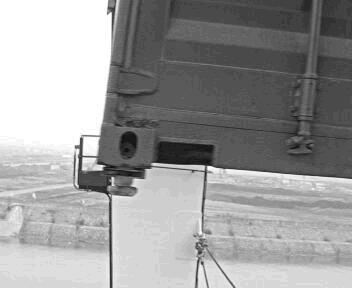twist_lock_1: (94, 160, 152, 201)
